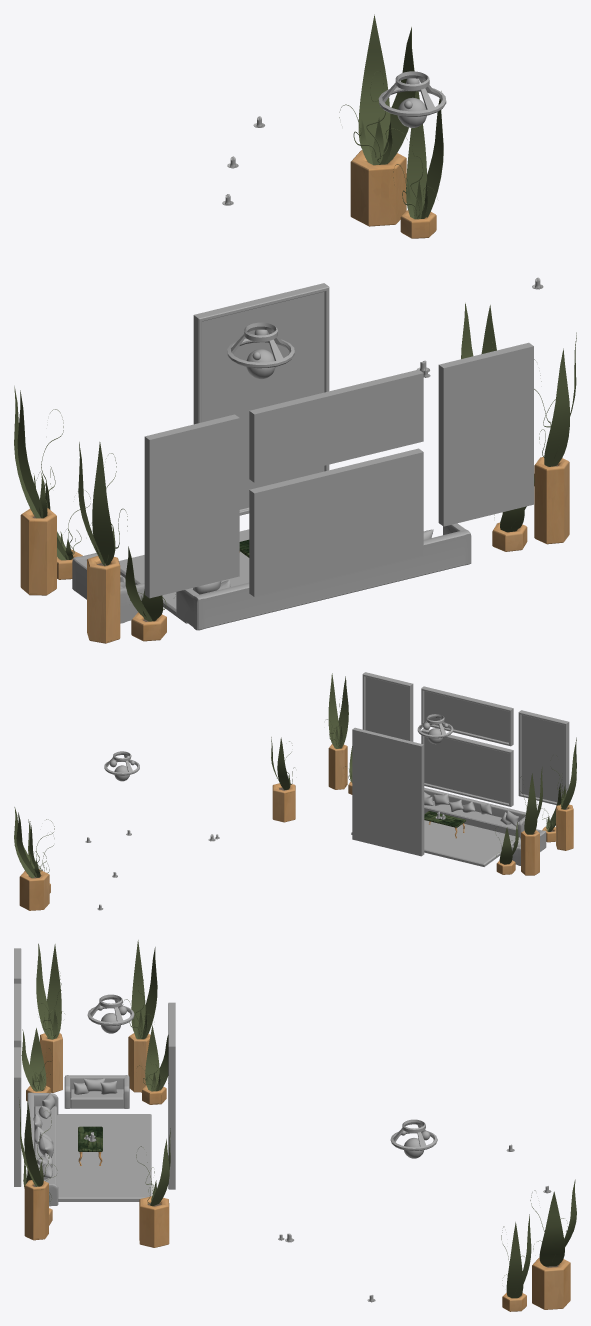
The model's file is SecondRoom_Uved_PLUS_SomeAssetsFirstRoom.fbx.
3 renders of one model, top to bottom at view 1: azimuth 30°, elevation 25°; view 2: azimuth 150°, elevation 25°; view 3: azimuth 270°, elevation 25°, orthographic. The views are drawn at different scales.
Parts seen in each view (by area): view 1: ST_Paintings, polySurface11, ST_Plant5, ST_Vase1, ST_Vase5, ST_Vase4, ST_Plant11, ST_Vase3, ST_Plant7, ST_Lamp1, ST_Lamp, ST_Plant8 (+7 smaller); view 2: ST_Paintings, polySurface26, polySurface11, ST_Vase1, ST_Plant8, ST_SofaPillows, ST_Vase8, ST_Vase4, ST_Vase5, ST_Vase3, ST_Plant5, ST_Plant9 (+6 smaller); view 3: polySurface26, ST_Paintings, polySurface22, ST_Vase1, ST_SofaPillows, ST_Plant7, ST_Plant9, ST_Plant5, ST_Vase8, polySurface11, ST_Vase4, ST_Plant11 (+9 smaller).
Boxes of the visible parts, left/top/right/bottom form: ST_Paintings: left=144, top=283, right=533, bottom=598; polySurface11: left=176, top=523, right=471, bottom=630; ST_Plant5: left=339, top=14, right=415, bottom=165; ST_Vase1: left=350, top=150, right=406, bottom=226; ST_Vase5: left=20, top=508, right=56, bottom=595; ST_Vase4: left=534, top=457, right=569, bottom=544; ST_Plant11: left=393, top=91, right=443, bottom=219; ST_Vase3: left=87, top=556, right=120, bottom=643; ST_Plant7: left=78, top=442, right=127, bottom=566; ST_Lamp1: left=378, top=71, right=446, bottom=127; ST_Lamp: left=227, top=322, right=294, bottom=379; ST_Plant8: left=534, top=332, right=576, bottom=466; ST_Paintings: left=352, top=672, right=569, bottom=856; polySurface26: left=351, top=820, right=520, bottom=866; polySurface11: left=424, top=788, right=525, bottom=838; ST_Vase1: left=19, top=869, right=49, bottom=910; ST_Plant8: left=326, top=673, right=348, bottom=748; ST_SofaPillows: left=424, top=792, right=520, bottom=846; ST_Vase8: left=272, top=783, right=295, bottom=822; ST_Vase4: left=328, top=744, right=347, bottom=789; ST_Vase5: left=521, top=830, right=539, bottom=875; ST_Vase3: left=556, top=804, right=573, bottom=850; ST_Plant5: left=14, top=807, right=54, bottom=878; ST_Plant9: left=519, top=767, right=542, bottom=834; polySurface26: left=57, top=1114, right=151, bottom=1201; ST_Paintings: left=14, top=948, right=175, bottom=1189; polySurface22: left=64, top=1075, right=129, bottom=1108; ST_Vase1: left=532, top=1257, right=570, bottom=1309; ST_SofaPillows: left=33, top=1078, right=117, bottom=1180; ST_Plant7: left=36, top=943, right=64, bottom=1039; ST_Plant9: left=123, top=940, right=157, bottom=1039; ST_Plant5: left=530, top=1179, right=576, bottom=1266; ST_Vase8: left=139, top=1196, right=169, bottom=1247; polySurface11: left=27, top=1092, right=58, bottom=1206; ST_Vase4: left=24, top=1180, right=48, bottom=1240; ST_Plant11: left=501, top=1214, right=531, bottom=1298.
Bounding box in the file's own units: 1847 × 585 × 1874.
